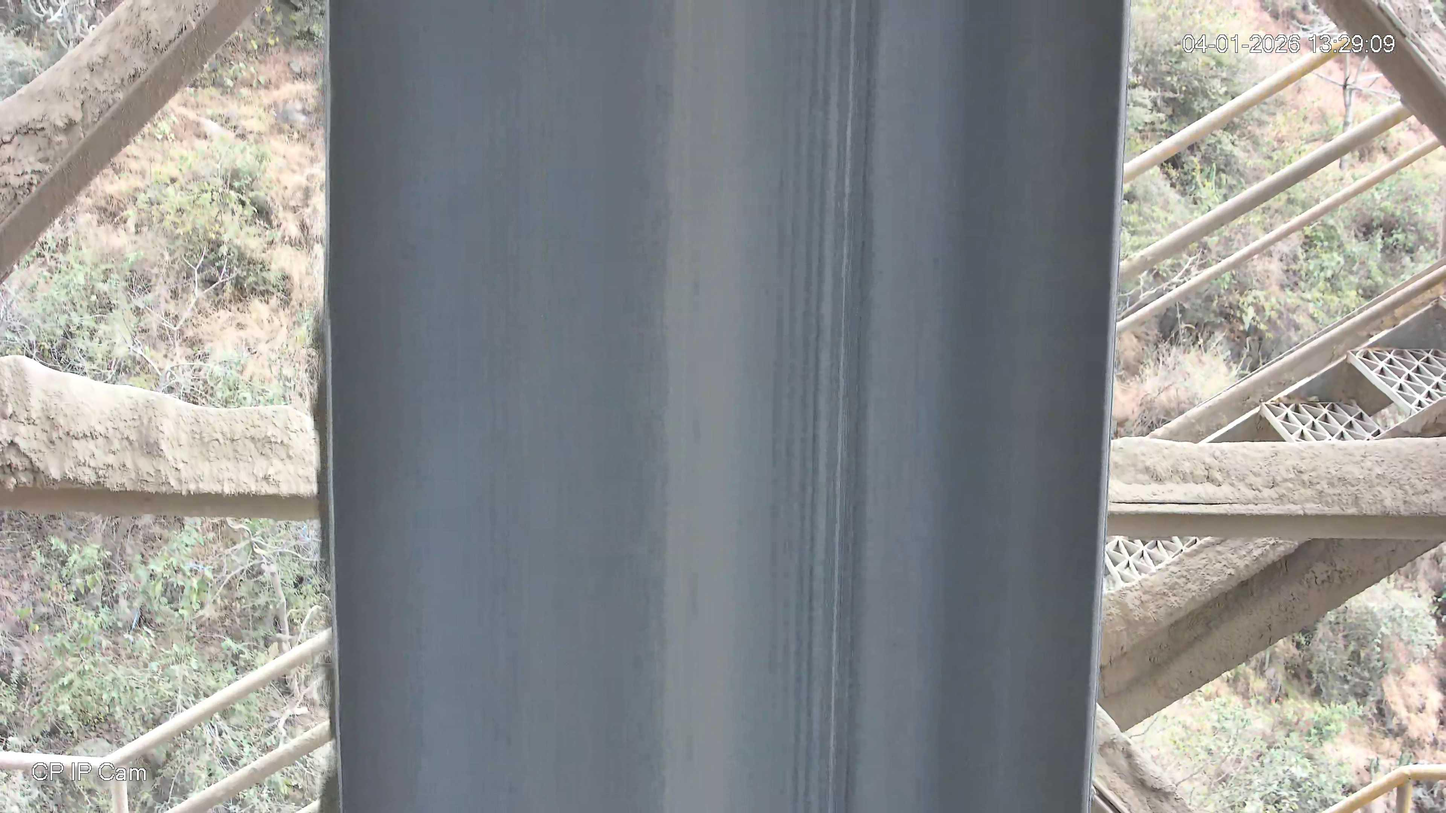belt_roi: (312, 0, 1133, 813)
